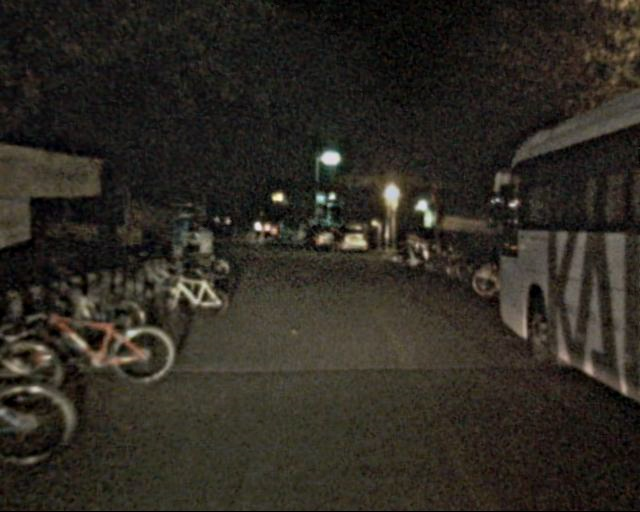person: (190, 222, 220, 296), (303, 226, 317, 259), (329, 227, 342, 259)
